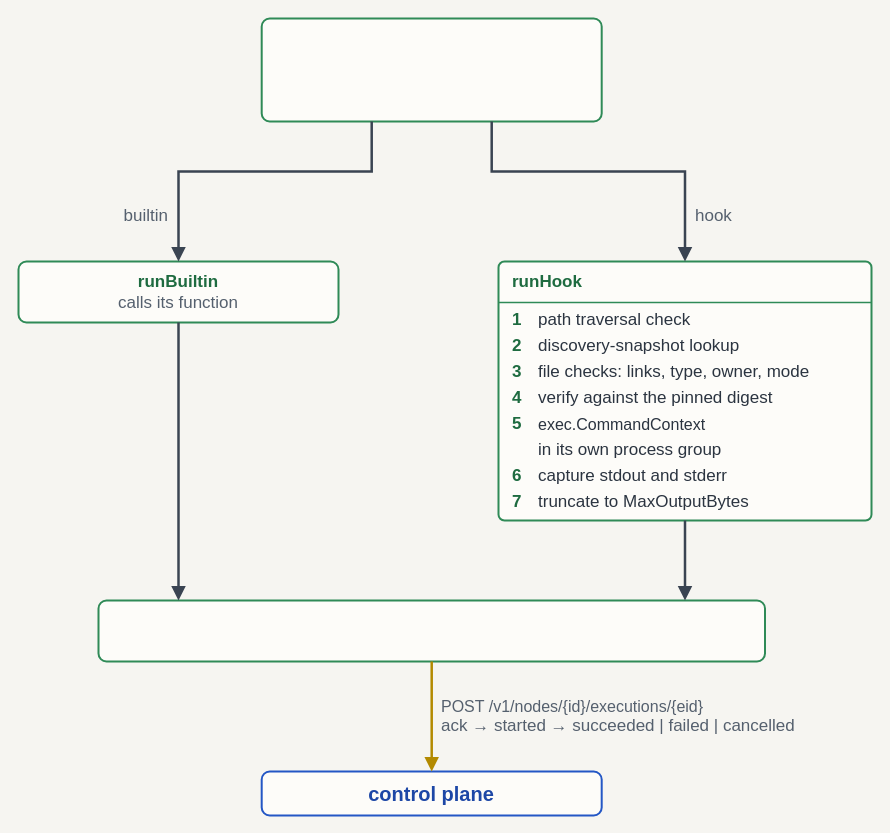
Some shapes in this 890 by 833 pixel diagram are drawn without their labels. The centre of each missing label's shape, as x and y in pixels:
"ExecutionCallback terminal" goes at pixel 431 630.
"goroutine runAction reads the hook sidecar runBound" goes at pixel 431 69.
